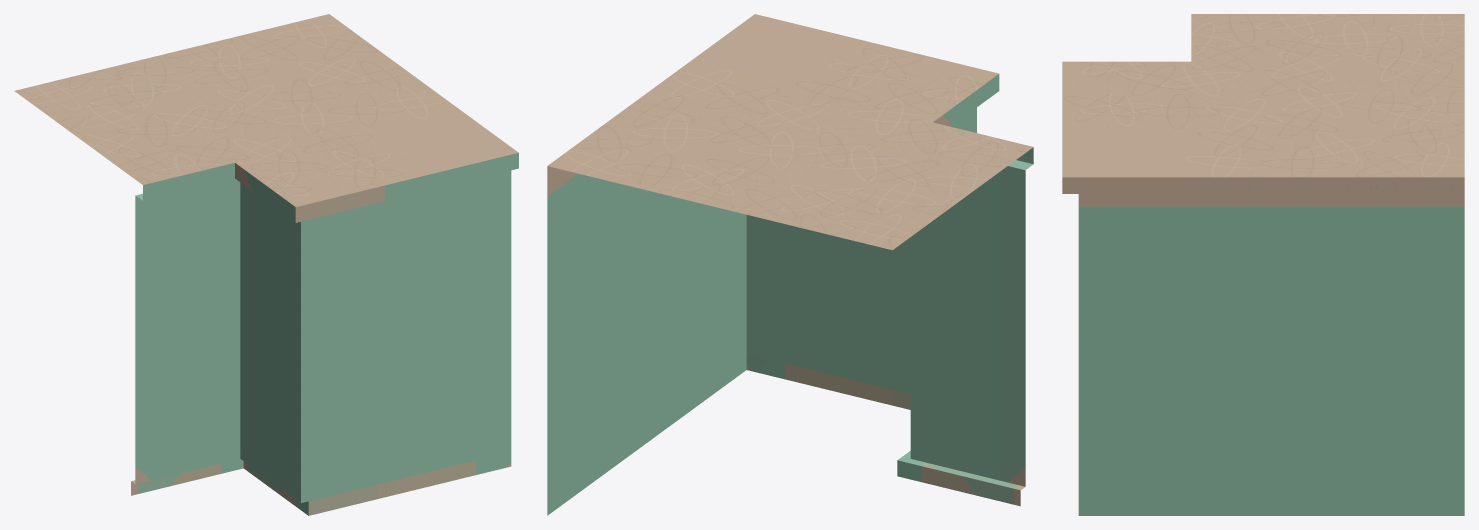
The model's file is Corner3.fbx.
3 views of the same model, side by side, from view 1: azimuth 30°, elevation 25°; view 2: azimuth 150°, elevation 25°; view 3: azimuth 270°, elevation 25° (orthographic). The views are drawn at different scales.
Parts seen in each view (by area): view 1: Counter_Corner9; view 2: Counter_Corner9; view 3: Counter_Corner9.
Boxes of the visible parts, <box> form: Counter_Corner9: <box>14,14,518,515</box>; Counter_Corner9: <box>547,14,1033,515</box>; Counter_Corner9: <box>1062,14,1464,515</box>.
Bounding box in the file's own units: 1 × 0.9682 × 1.04.
